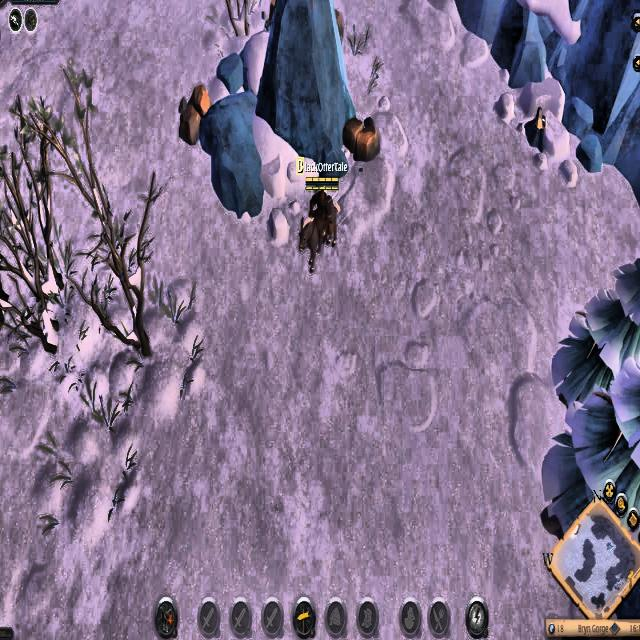copperore: (522, 103, 550, 152)
limestone: (175, 80, 212, 150), (340, 108, 381, 171)
